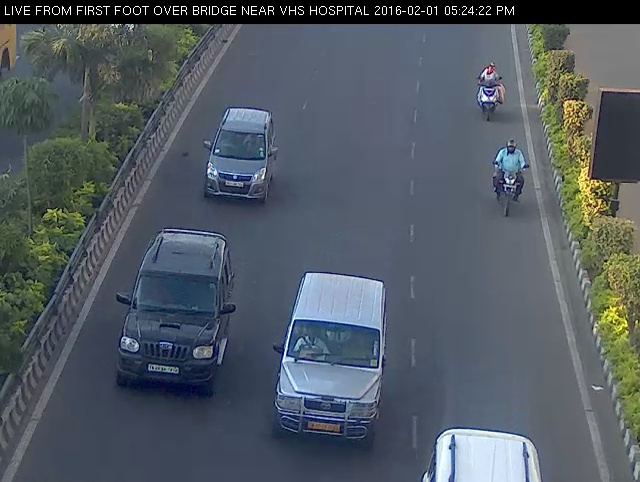Car: (102, 219, 246, 405), (275, 263, 392, 455), (199, 98, 283, 211), (410, 421, 558, 481)
Person: (484, 138, 533, 223), (467, 53, 510, 126)
